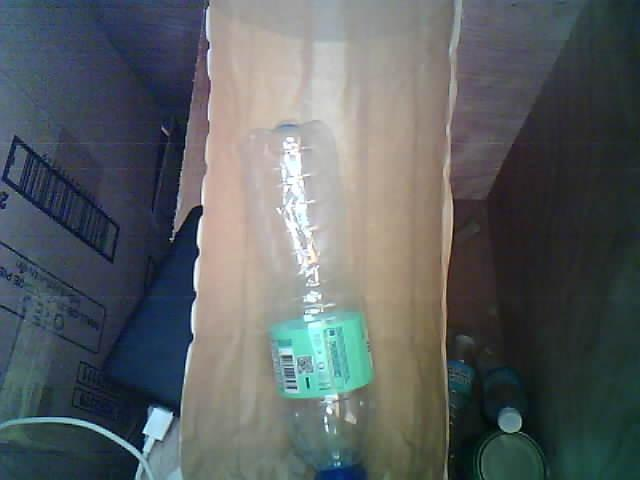small_bottle: (235, 108, 388, 479)
